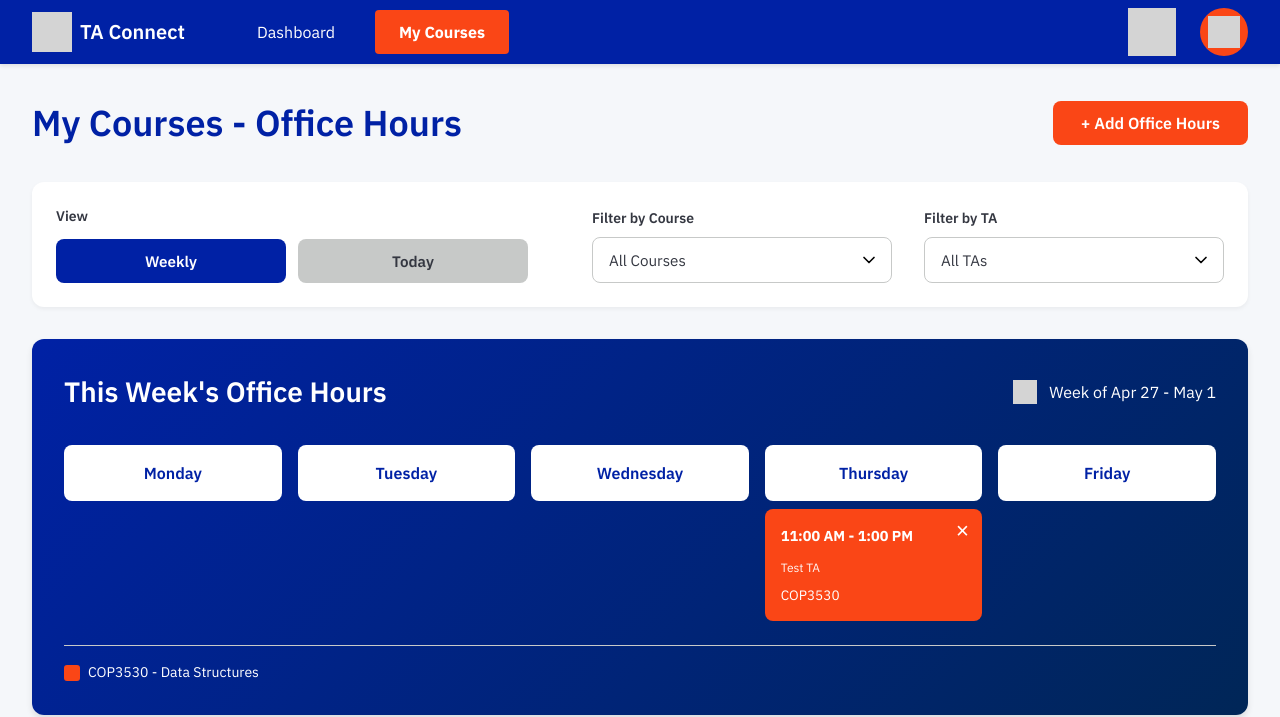
it: MyCoursesPage › switches to today view when clicking Today button
Expected: the heading "This Week's Office Hours" is shown, [64, 371, 387, 413]
Click the button "Today".
click(413, 261)  # box [298, 239, 528, 283]
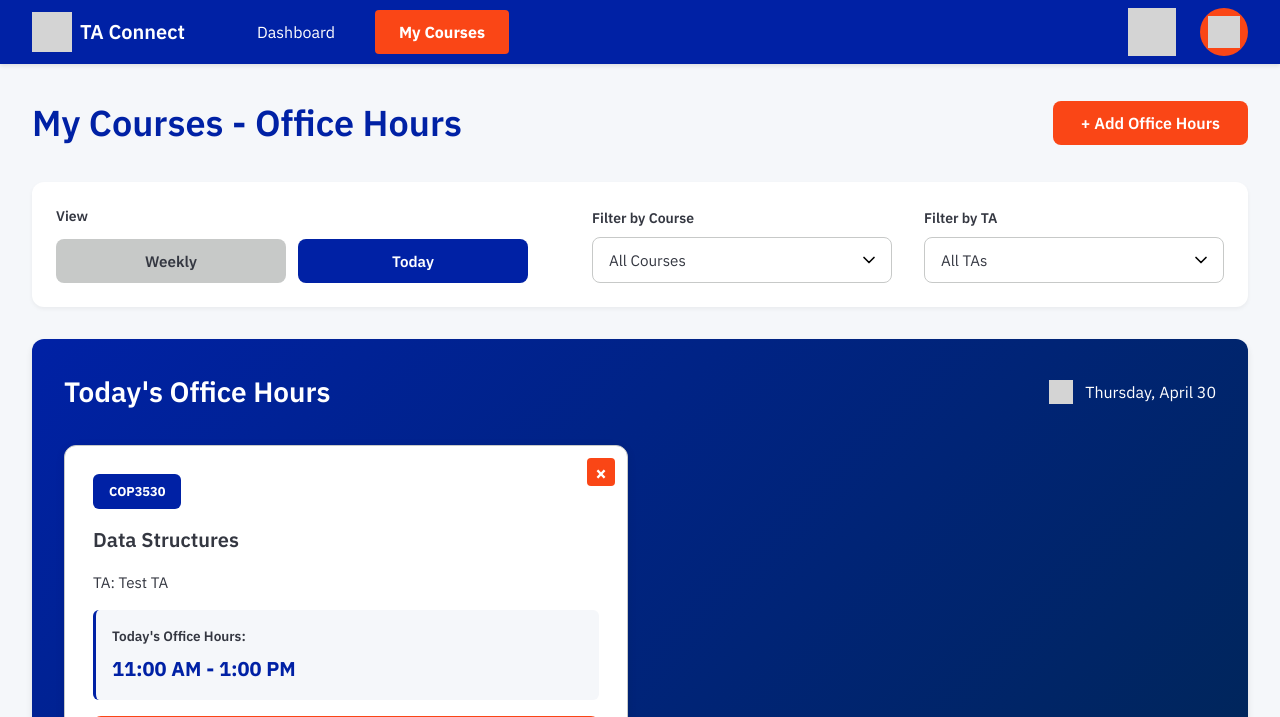
Now the heading "Today's Office Hours" is shown, box [64, 371, 331, 413]
